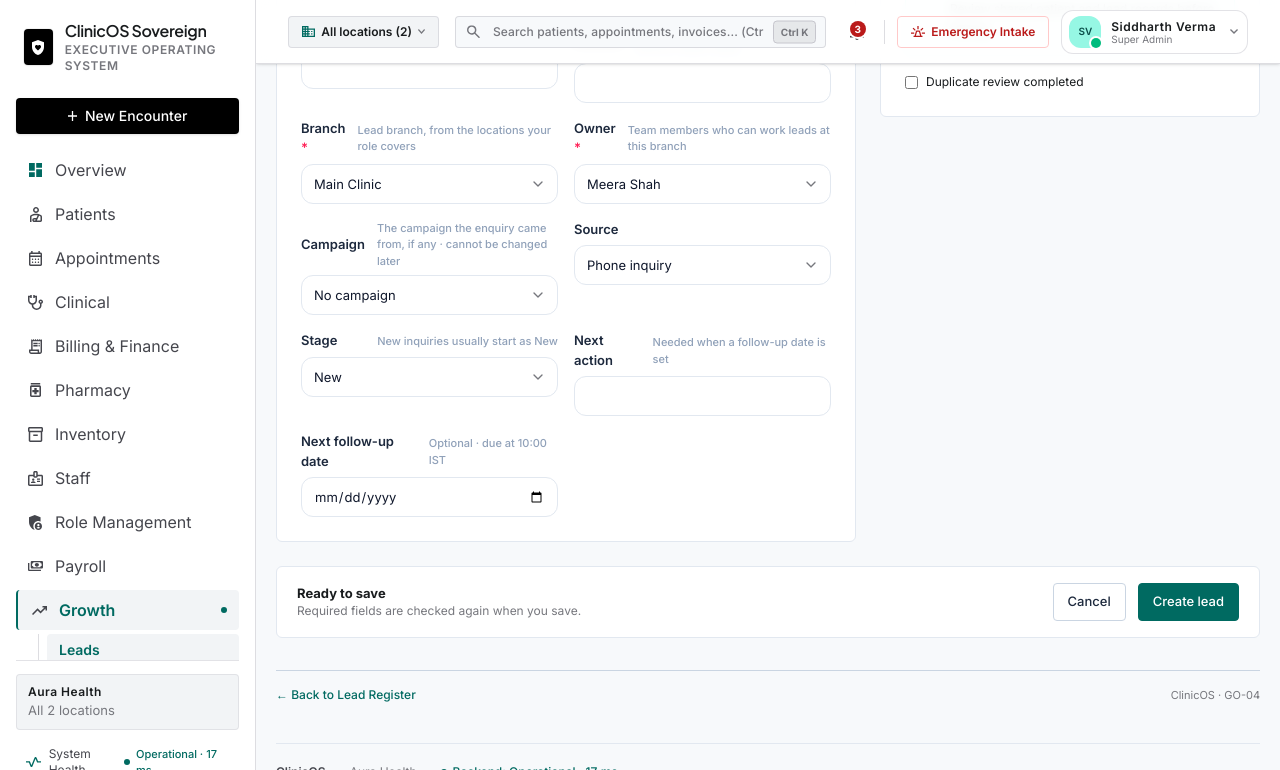
leads › creates a lead with an owner who covers the branch, and opens its details
(page scrolled)
Click the button "Create lead": (1188, 602) [1138, 583, 1239, 621]
(page scrolled)
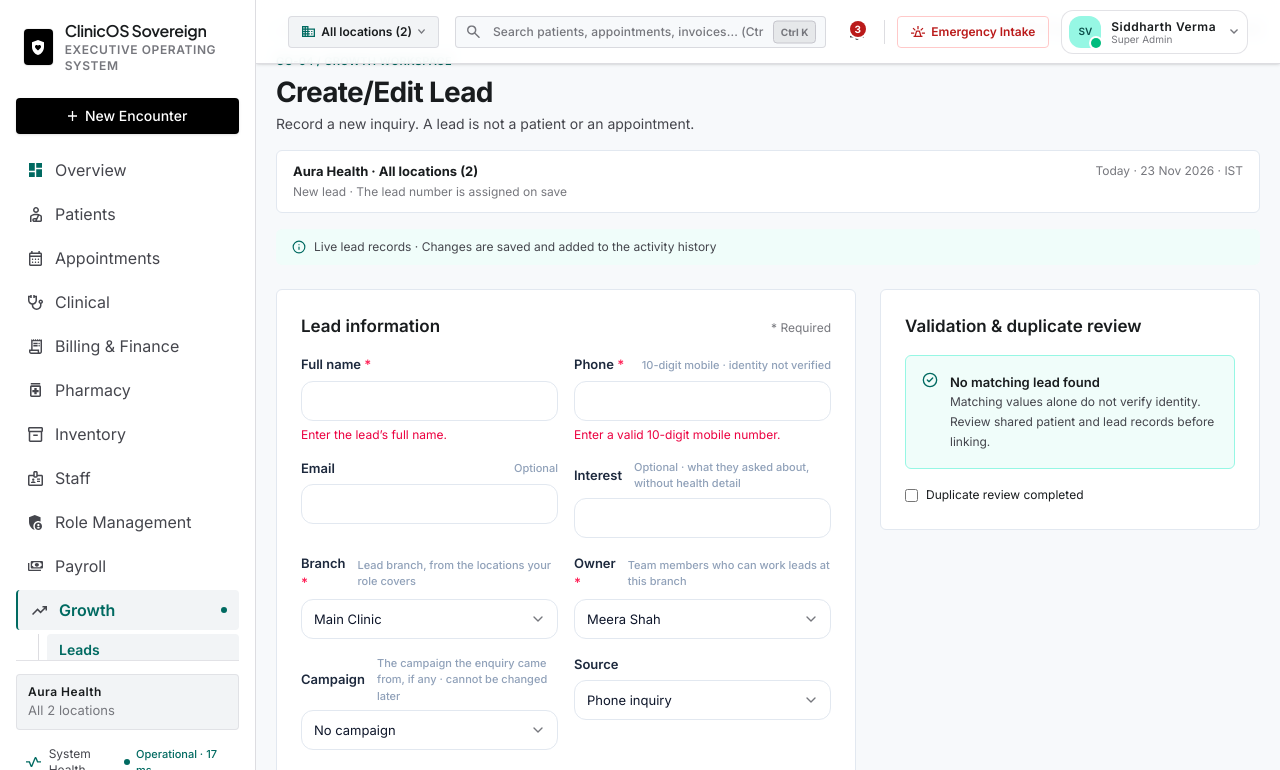
Expected: the text "Enter the lead’s full name." is shown, [301, 427, 447, 442]
Clear the field labelled "Full name *": (430, 401) [301, 381, 558, 421]
Type keys "Sana Iqbal"
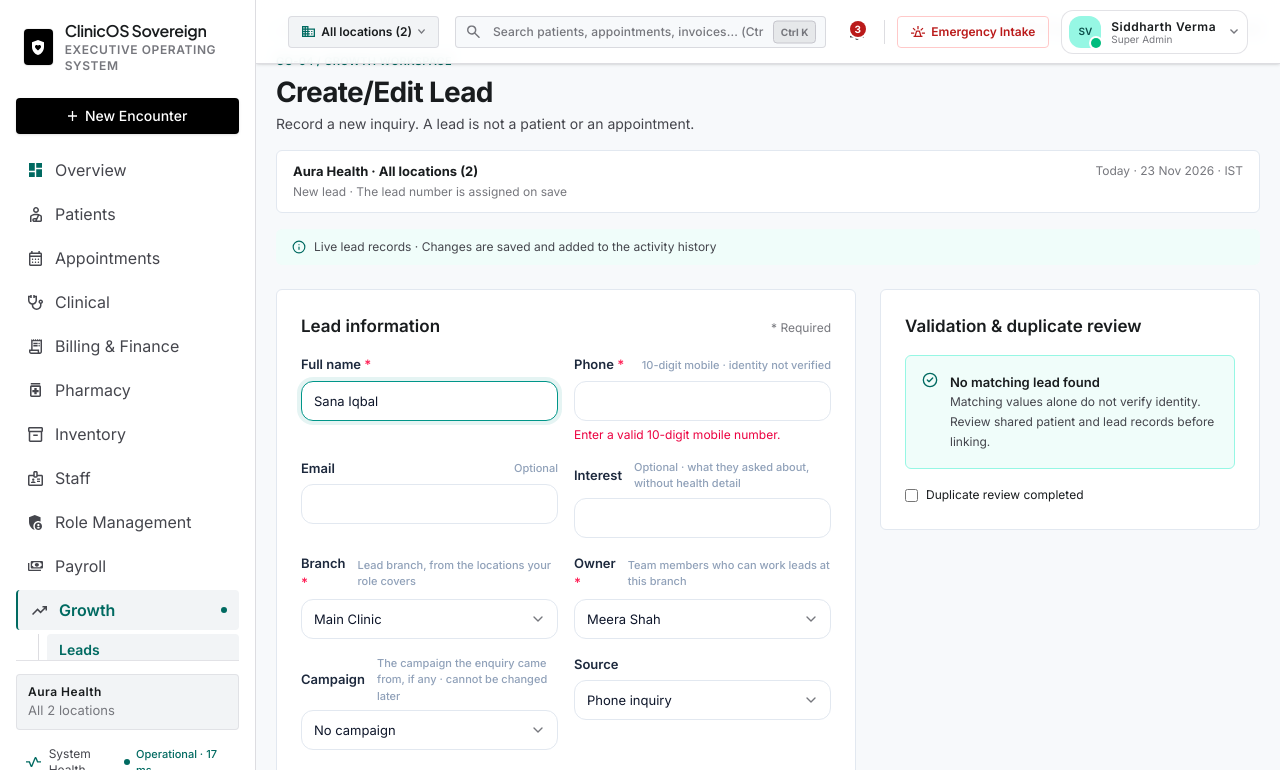
Clear the field labelled "Phone *": (702, 401) [574, 381, 831, 421]
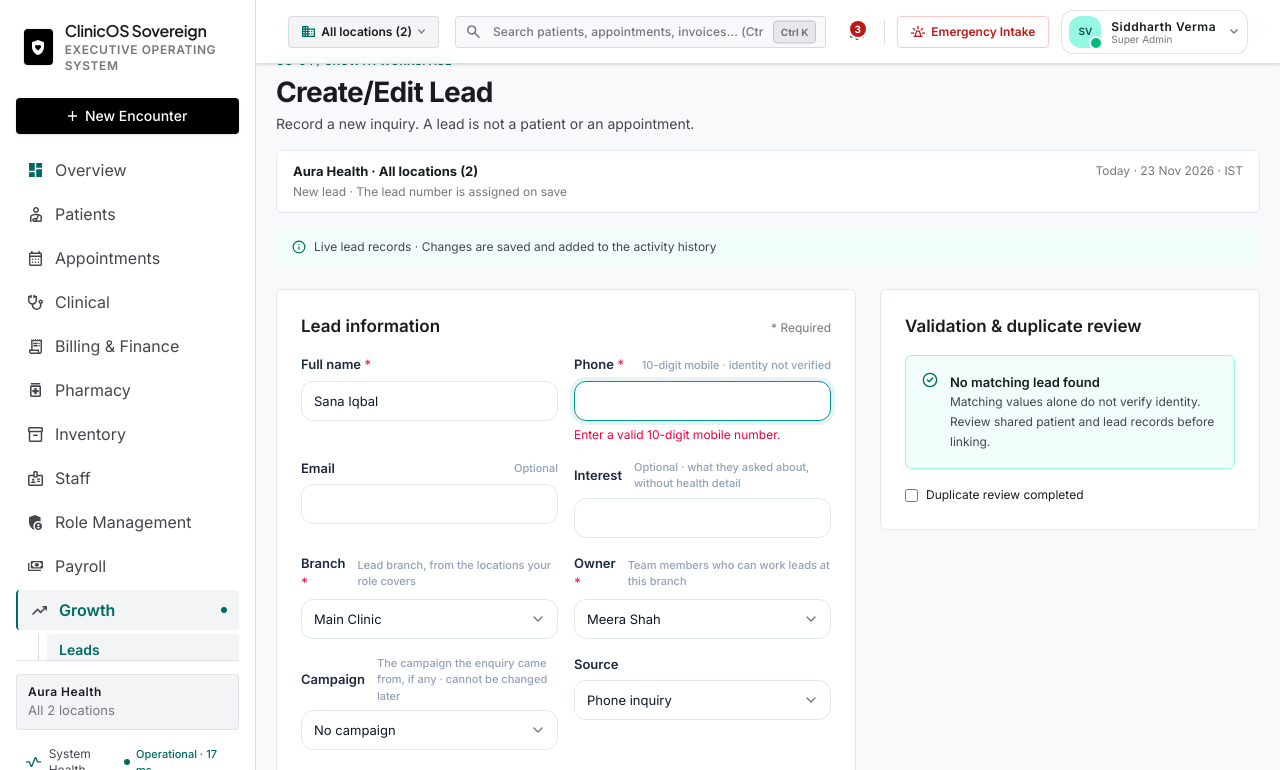
Type keys "91234 56780"
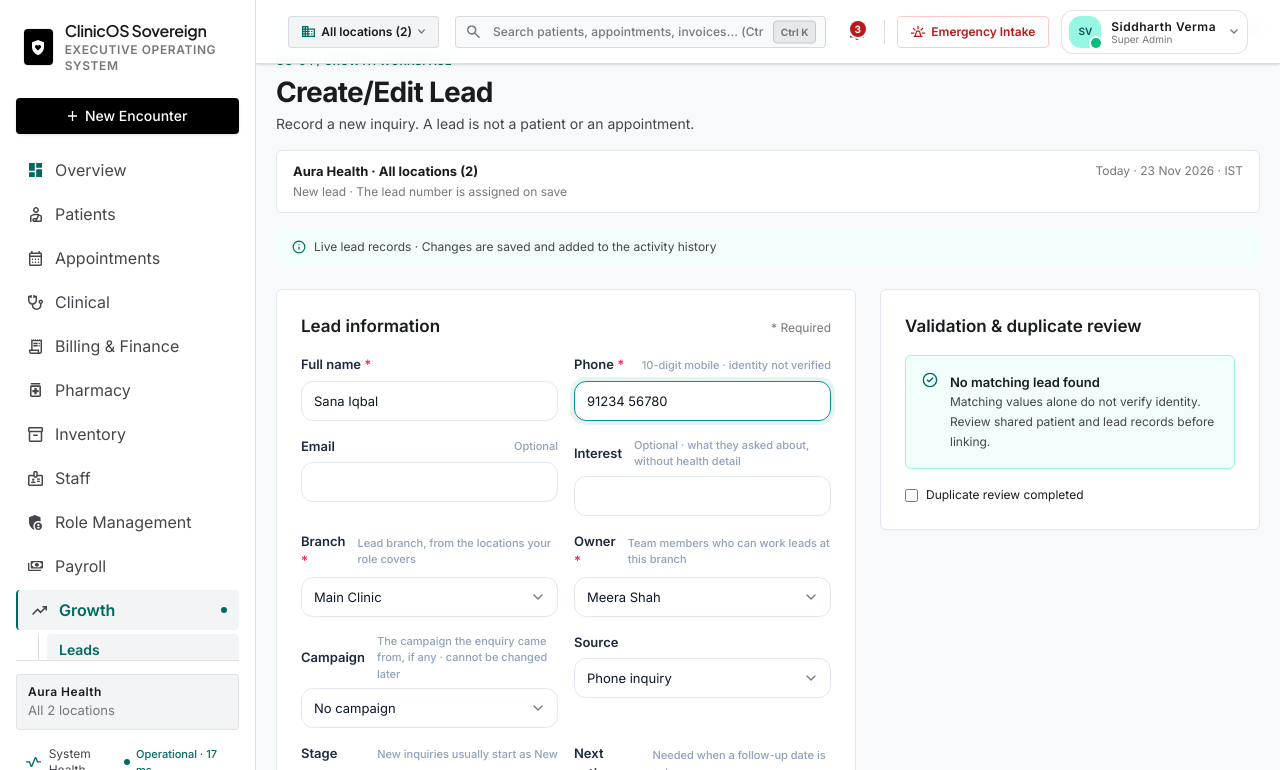
Select "Kondapur Clinic" in the dropdown labelled "Branch *": (430, 597) [301, 577, 558, 617]
(page scrolled)
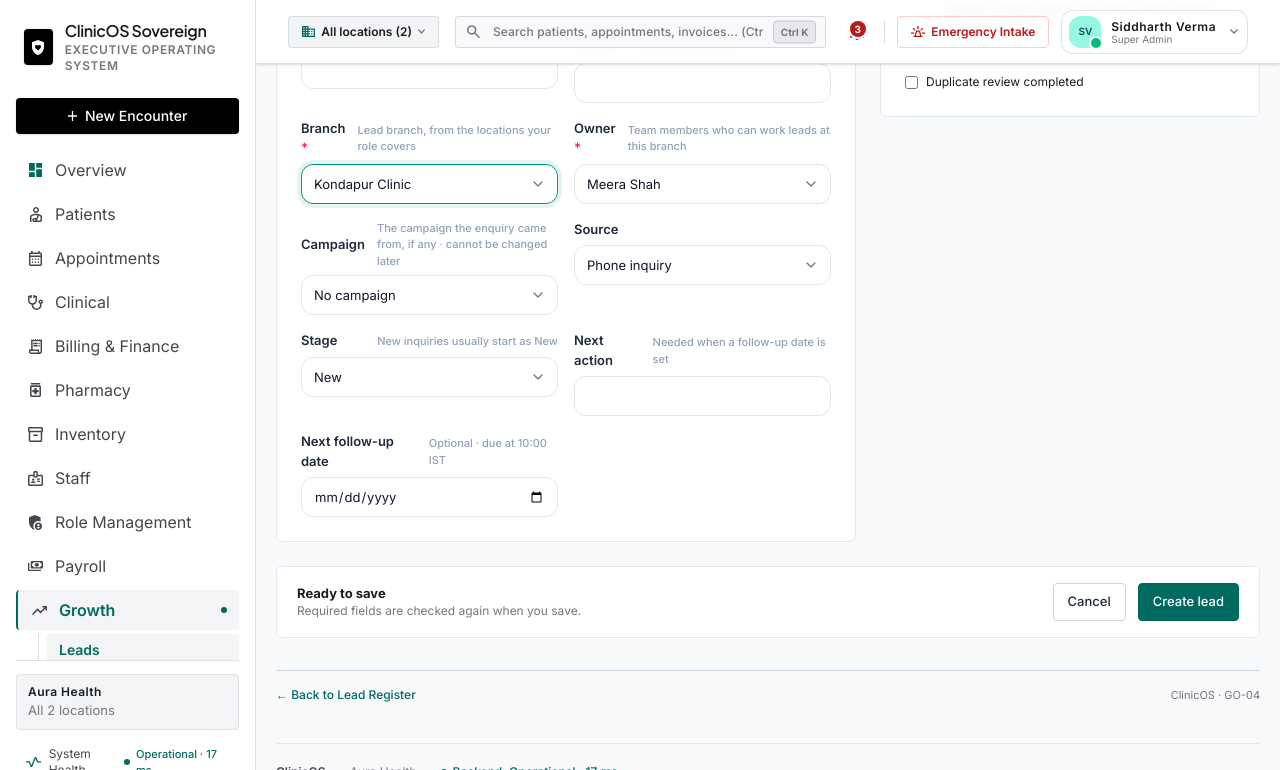
Click the button "Create lead": (1188, 602) [1138, 583, 1239, 621]
(page scrolled)
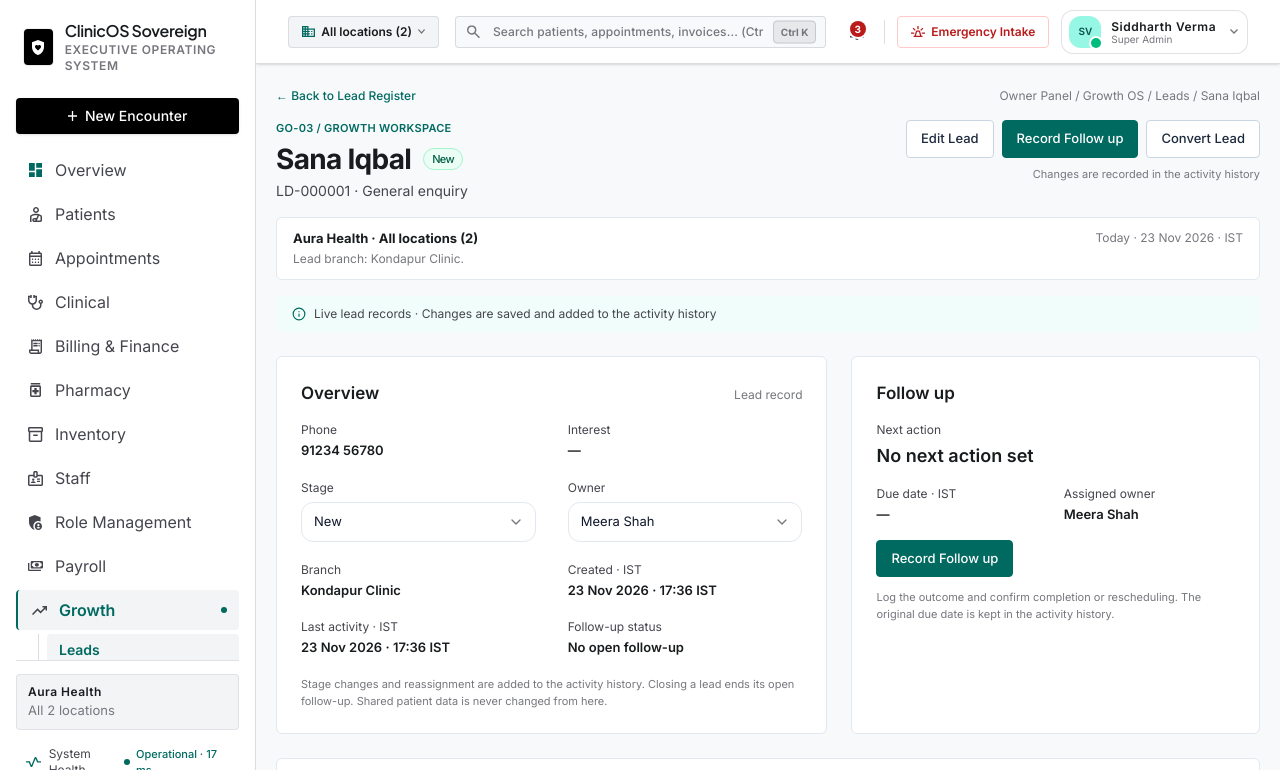
Expected: the heading "Sana Iqbal New" is shown, [276, 142, 463, 176]
